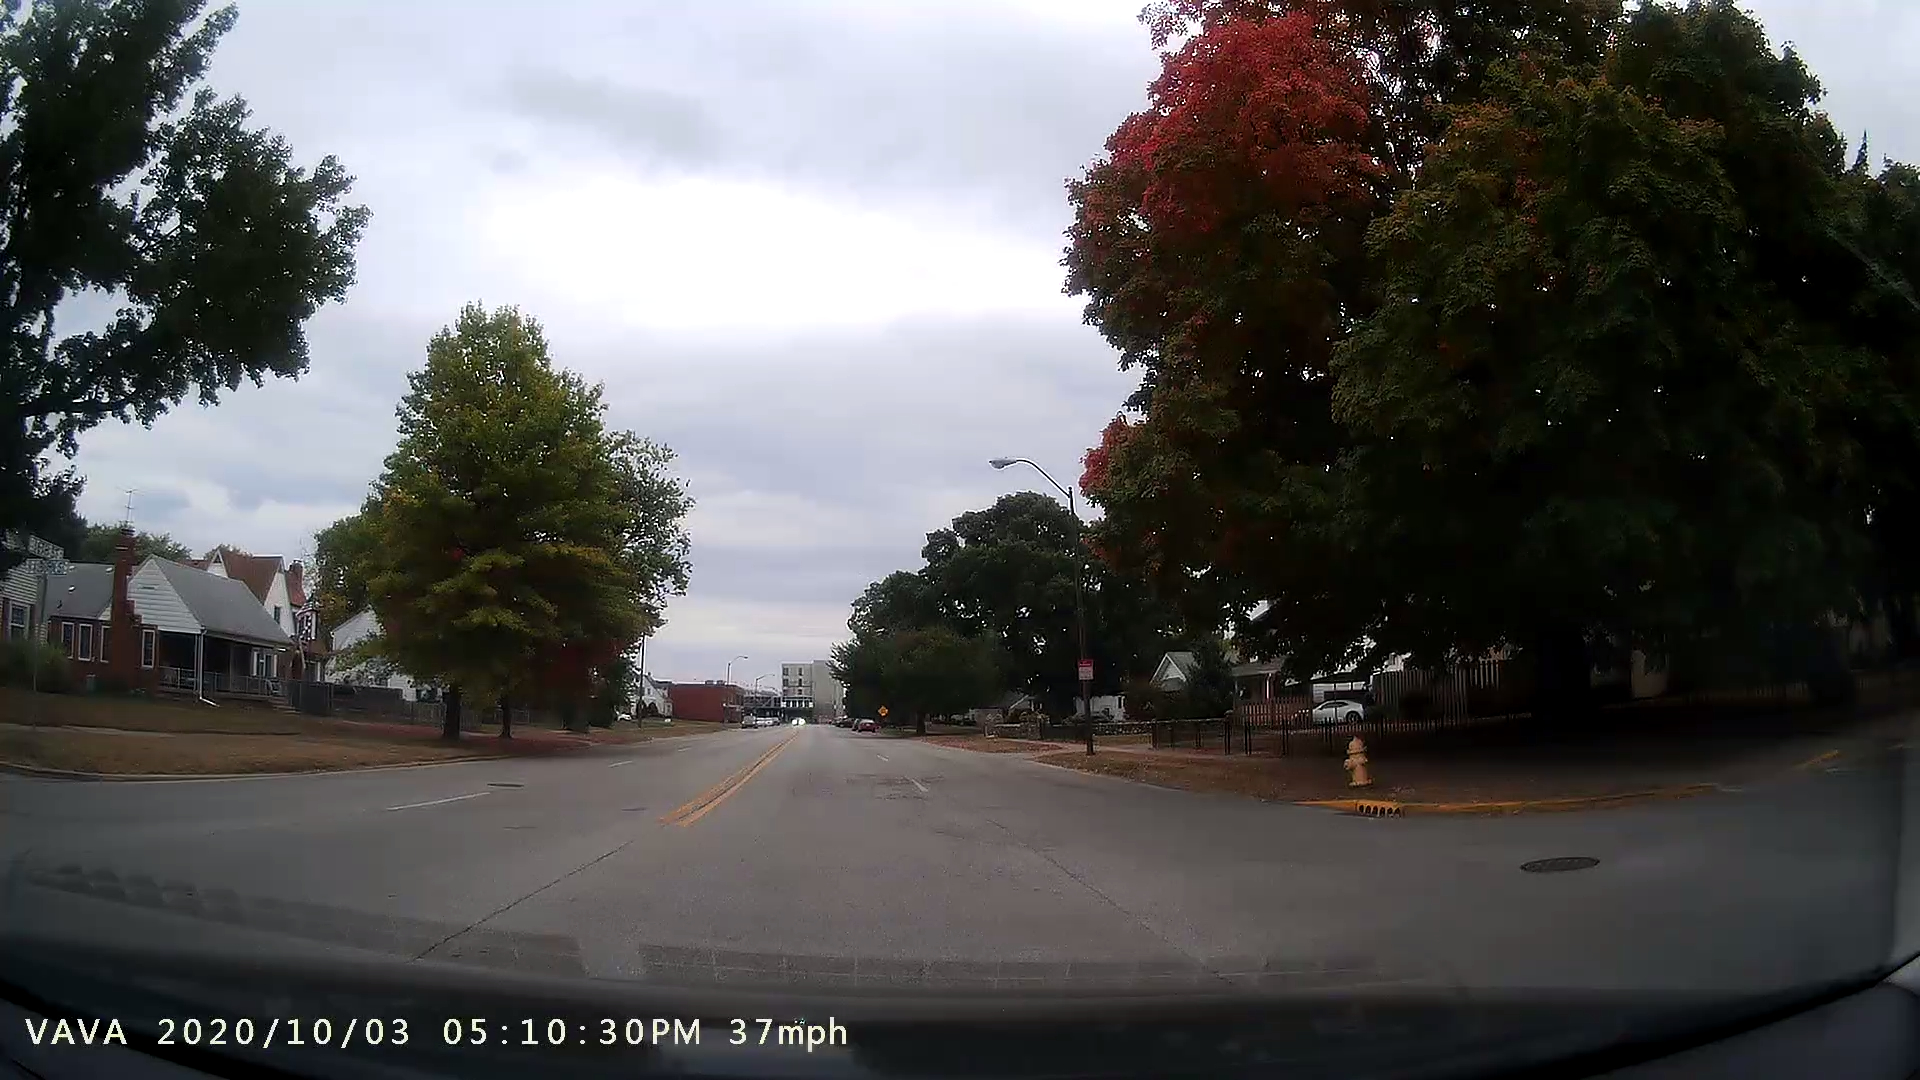fire_hydrant: (1333, 720, 1390, 796)
